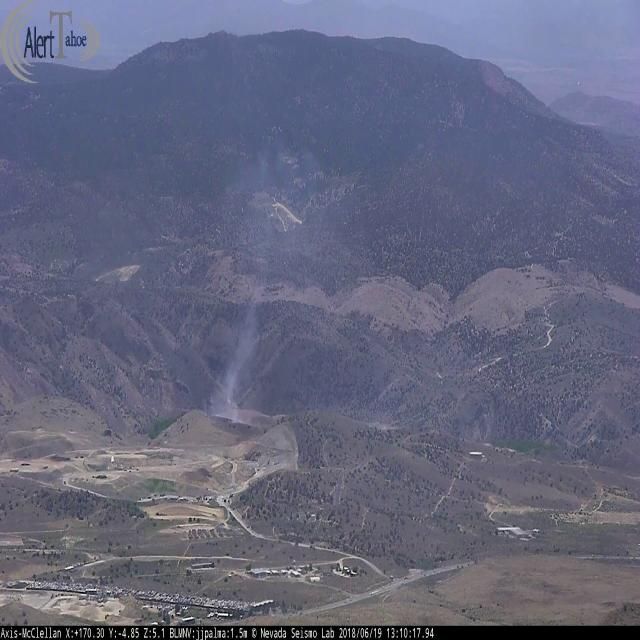smoke: (198, 125, 336, 432)
